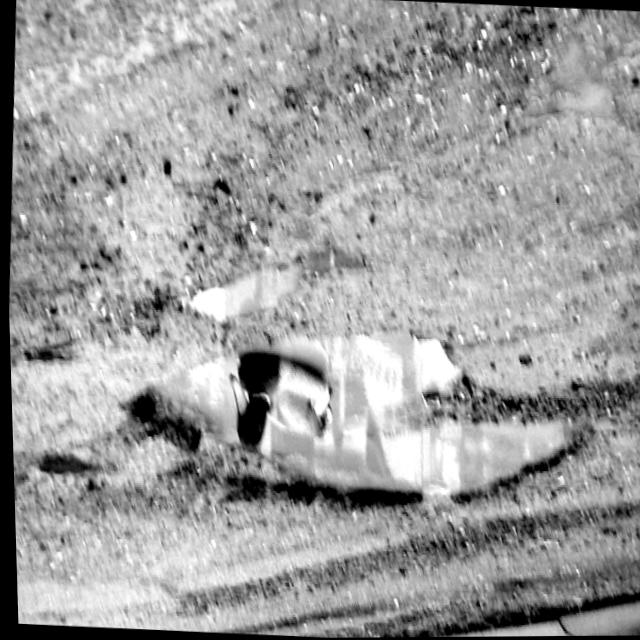pathole: (14, 226, 623, 632)
